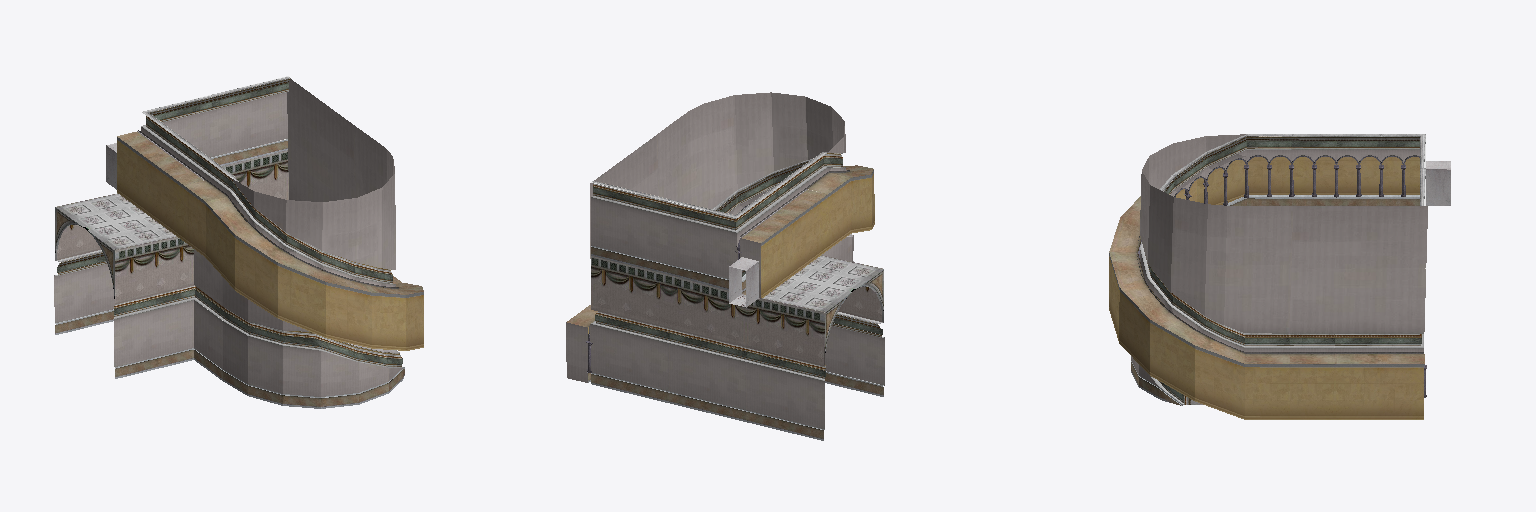
3 views of the same model, side by side, from view 1: azimuth 30°, elevation 25°; view 2: azimuth 150°, elevation 25°; view 3: azimuth 270°, elevation 25° (orthographic).
Visible parts, largest first — view 1: Object058, Object057, Object061, Object056, Object; view 2: Object058, Object061, Object056, Object057, Door021, Object; view 3: Object058, Object057, Object, Door021, Object059.
Boxes of the visible parts, <box> form: Object058: <box>54,76,423,408</box>; Object057: <box>117,137,423,350</box>; Object061: <box>55,193,193,304</box>; Object056: <box>222,150,288,199</box>; Object: <box>141,127,395,286</box>; Object058: <box>566,92,884,440</box>; Object061: <box>746,255,883,366</box>; Object056: <box>591,256,745,346</box>; Object057: <box>588,170,874,333</box>; Door021: <box>729,257,758,307</box>; Object: <box>729,167,846,246</box>; Object058: <box>1109,134,1427,405</box>; Object057: <box>1109,157,1424,419</box>; Object: <box>1140,150,1423,351</box>; Door021: <box>1426,161,1450,205</box>; Object059: <box>1138,155,1419,257</box>.
Size of the model in its own units: 20.5 by 15.28 by 23.48.
Materials: 5 (5 with a texture image).